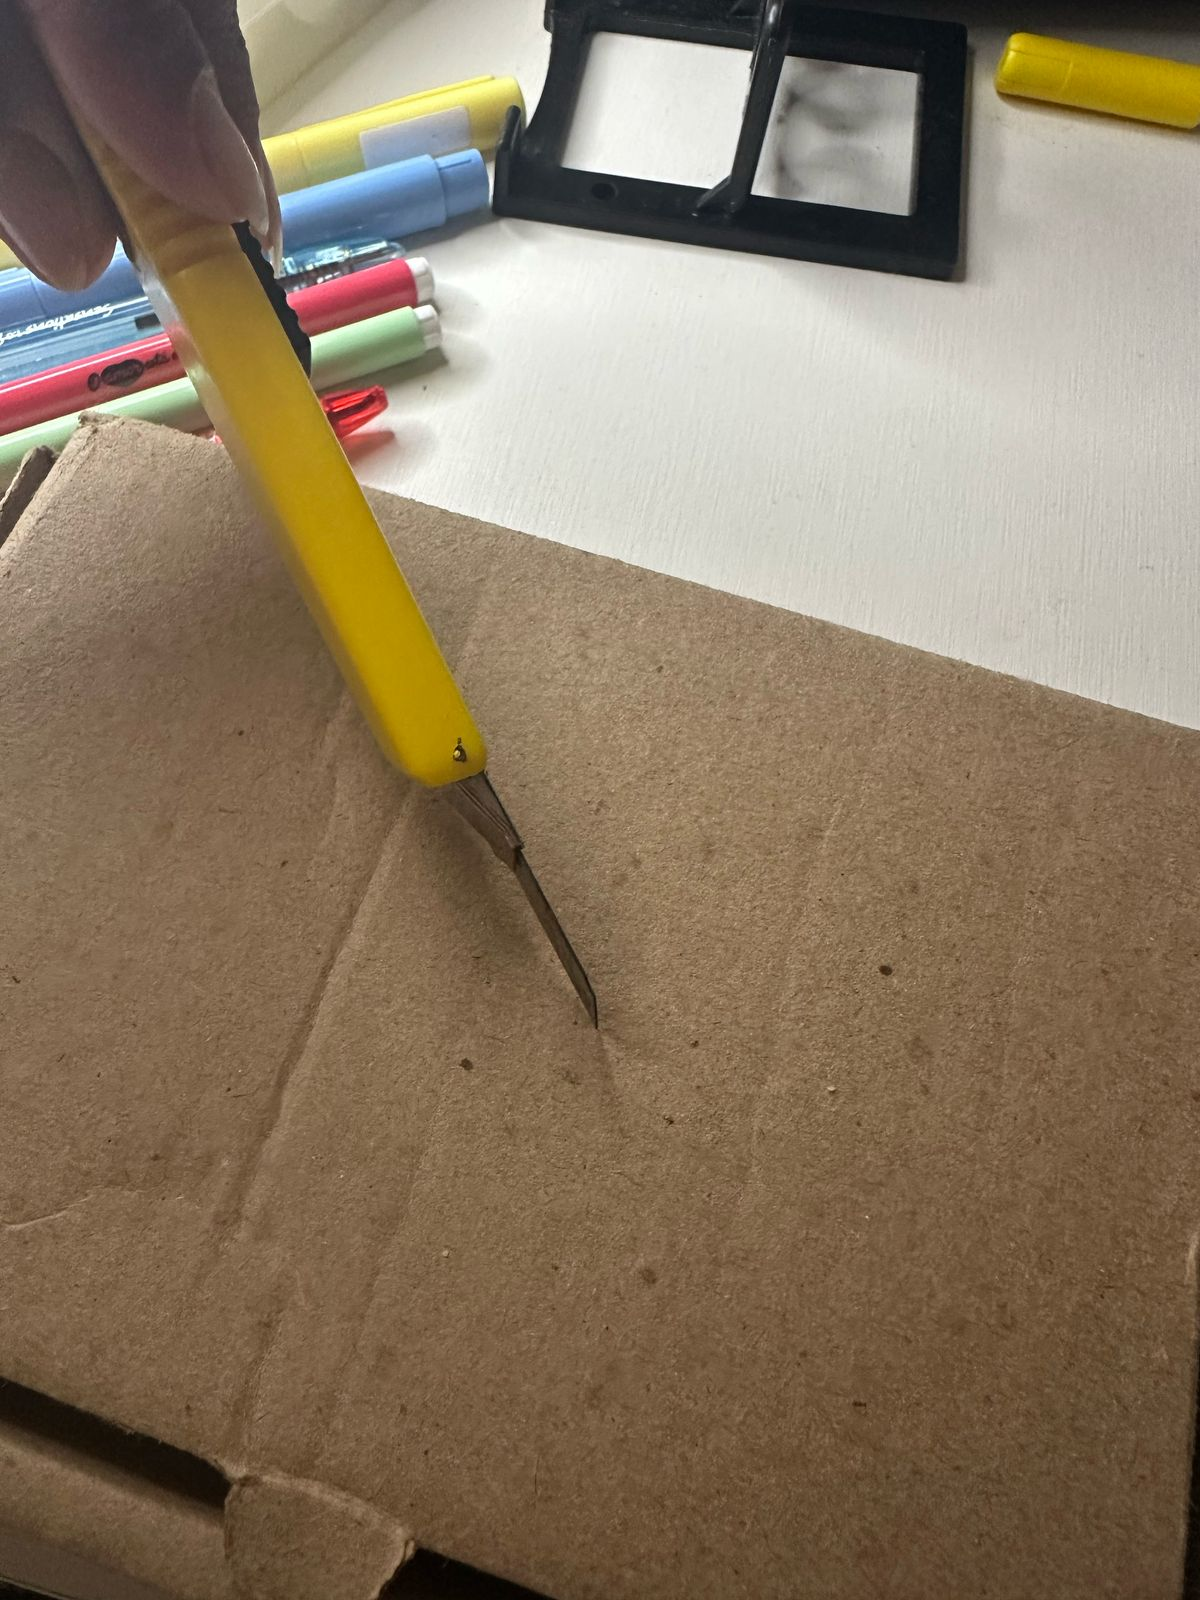estilete: (140, 285, 614, 1034)
